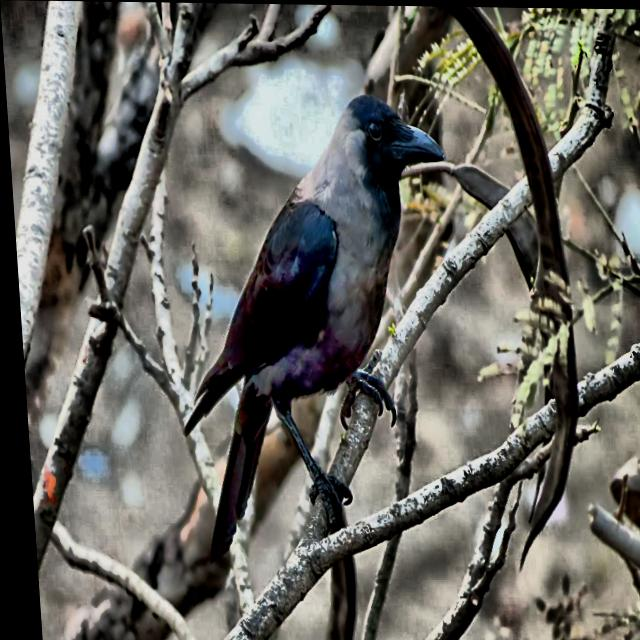crow: (146, 73, 462, 564)
